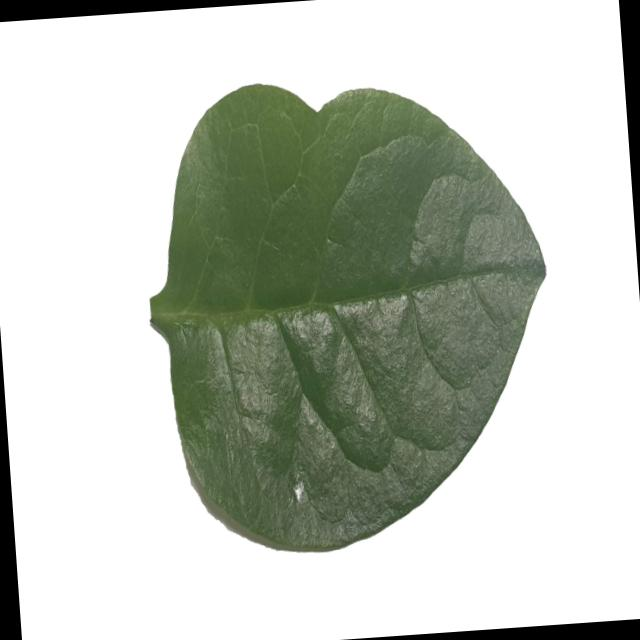Medicinal-Basale: (134, 58, 566, 565)
